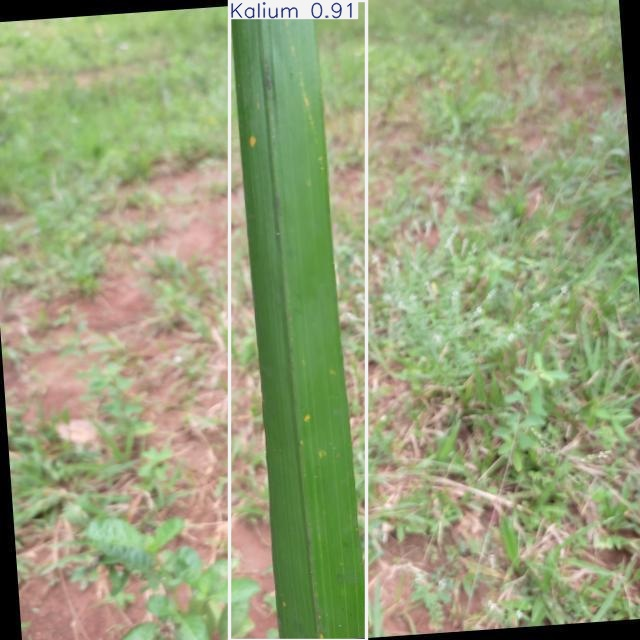Kalium: (230, 0, 367, 640)
